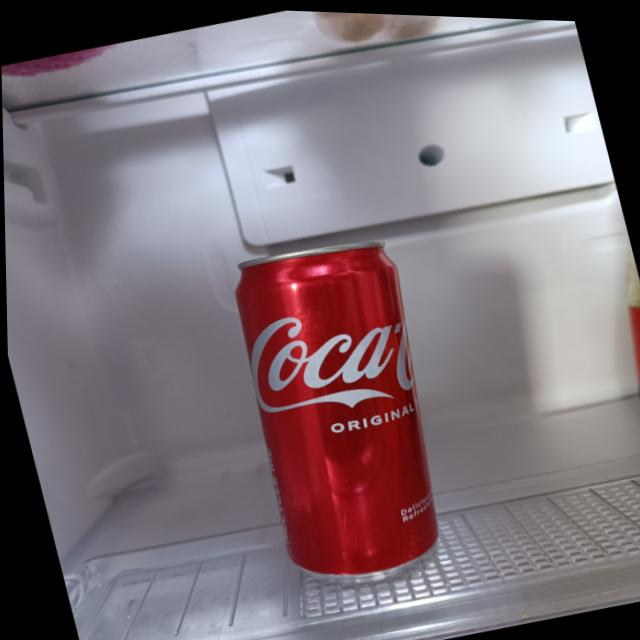coke: (211, 228, 467, 595)
